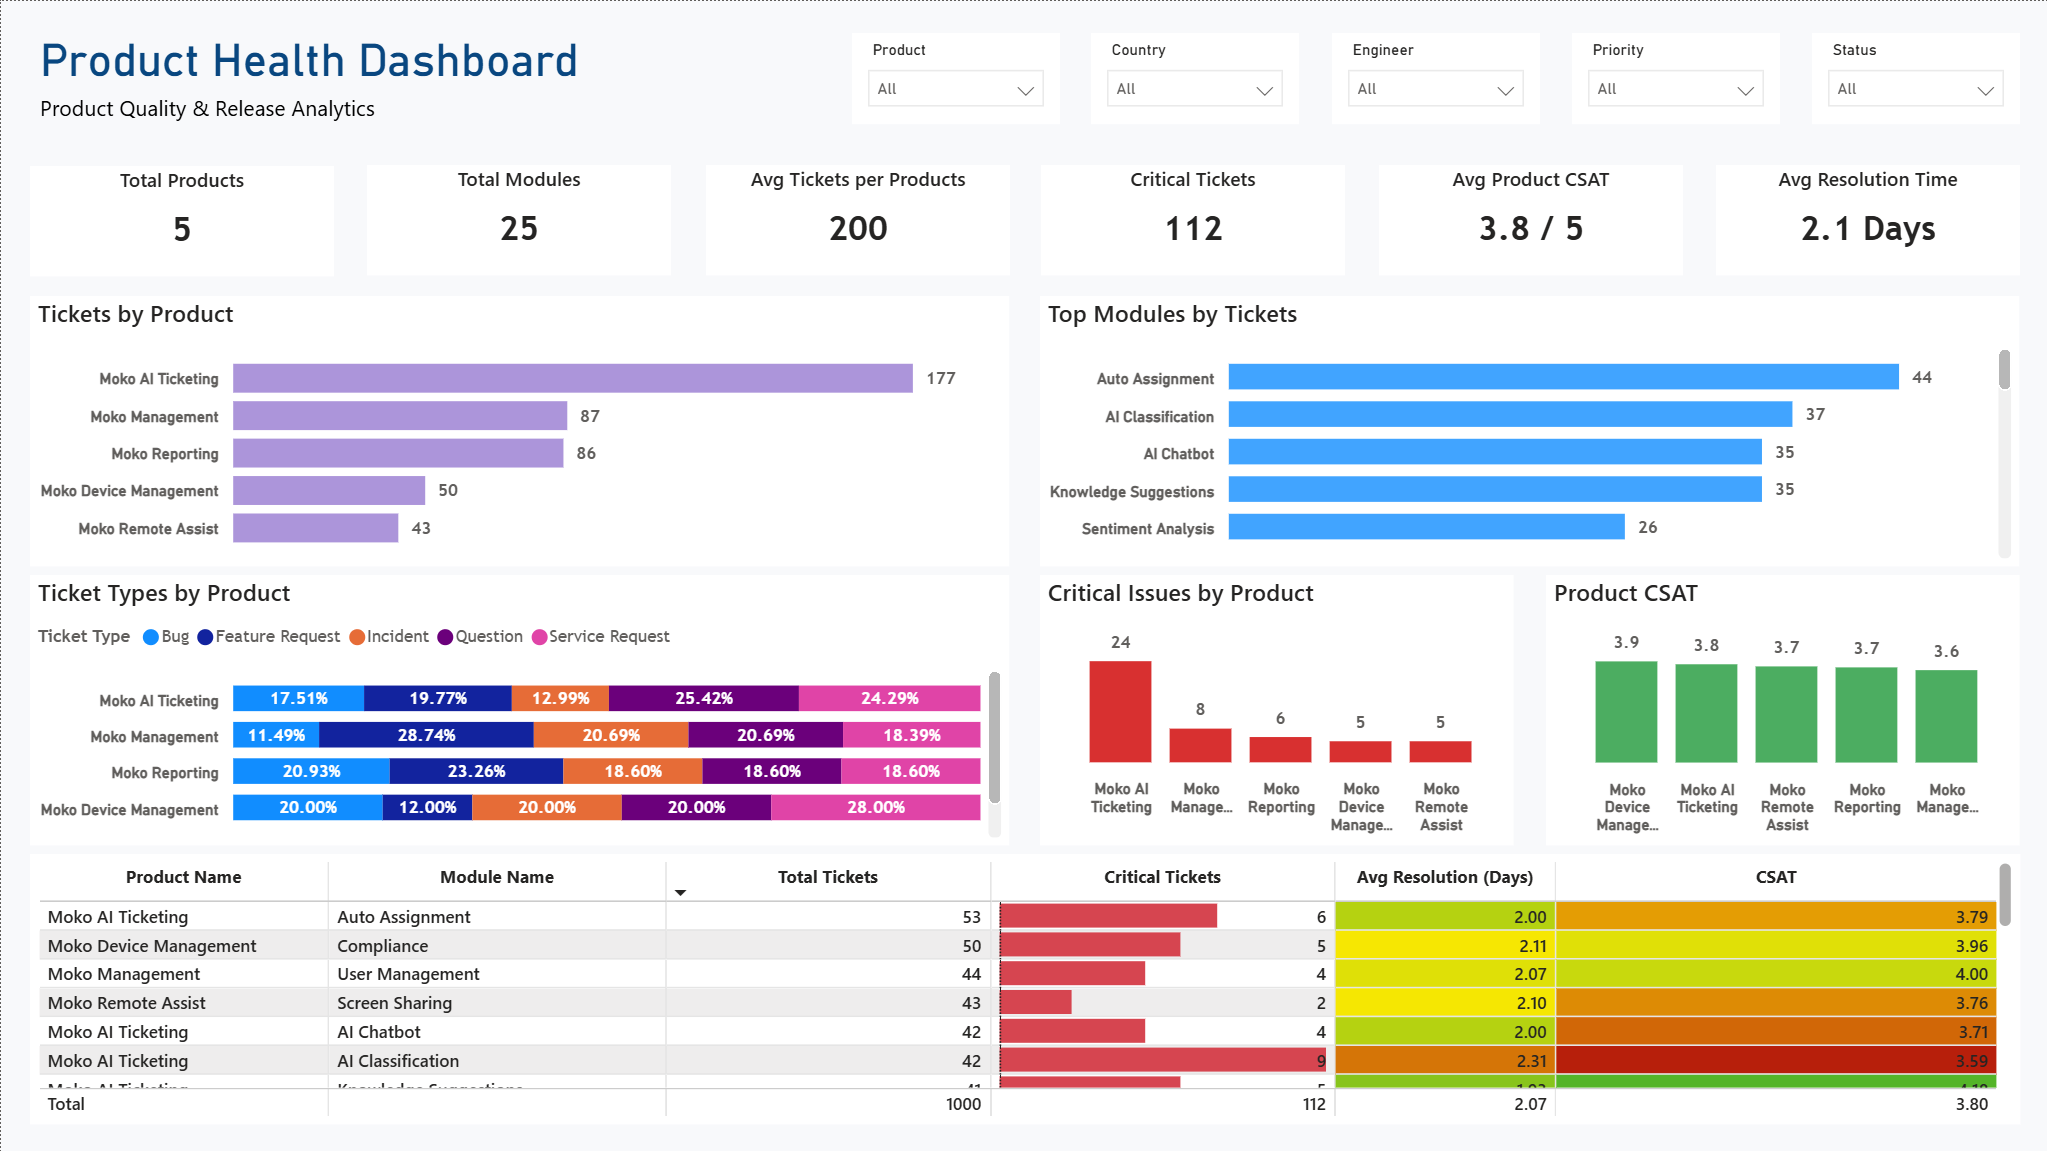

The page's visual inventory and layout, read from the dashboard file:
{"tool":"powerbi","page":{"name":"Product Health Dashboard","canvas":[1280,720],"ordinal":3},"visuals":[{"type":"textbox","title":"Product Health Dashboard","box":[19.3,20,452.7,61.3],"z":0},{"type":"cardVisual","title":"Total Products","fields":{"Data":["Measures (2).Products"]},"box":[18,102.8,190,69],"z":1000},{"type":"cardVisual","title":"Total Modules","fields":{"Data":["Measures (2).Modules"]},"box":[229,102.5,190.1,69.3],"z":2000},{"type":"cardVisual","title":"Avg Tickets per Products","fields":{"Data":["Measures (2).Avg Tickets per Product"]},"box":[440.7,102.5,190.1,69.3],"z":3000},{"type":"cardVisual","title":"Critical Tickets","fields":{"Data":["Measures (2).Critical Tickets"]},"box":[650,102.5,190,69.3],"z":4000},{"type":"cardVisual","title":"Avg Product CSAT","fields":{"Data":["Measures (2).Customer Rating Display"]},"box":[861,102.5,190.1,69.3],"z":5000},{"type":"cardVisual","title":"Avg Resolution Time","fields":{"Data":["Measures (2).Avg Resolution Time Display"]},"box":[1072,102.5,190.1,69.3],"z":6000},{"type":"slicer","fields":{"Values":["supportdesk_db tickets.status"]},"box":[1132,20,130,57.3],"z":7000},{"type":"slicer","fields":{"Values":["supportdesk_db tickets.priority"]},"box":[982,20,130,57.3],"z":8000},{"type":"slicer","fields":{"Values":["supportdesk_db engineers.engineer_name"]},"box":[832,20,130,57.3],"z":9000},{"type":"slicer","fields":{"Values":["supportdesk_db customers.country"]},"box":[681,20,130,57.3],"z":10000},{"type":"slicer","fields":{"Values":["supportdesk_db products.product_name"]},"box":[532,20,130,57.3],"z":11000},{"type":"clusteredBarChart","title":"Tickets by Product","fields":{"Y":["Measures (2).Total Tickets"],"Category":["supportdesk_db products.product_name"]},"box":[18,184.1,612,169],"z":12000},{"type":"tableEx","title":"Ticket Sources","fields":{"Values":["supportdesk_db products.product_name","supportdesk_db modules.module_name","Measures (2).Total Tickets","Measures (2).Critical Tickets","Measures (2).Avg Resolution (Days)","Measures (2).Average Rating"]},"box":[17.9,533,1244.2,169.2],"z":13000},{"type":"columnChart","title":"Critical Issues by Product","fields":{"Category":["supportdesk_db products.product_name"],"Y":["Measures (2).Critical Tickets"]},"box":[649.2,358.5,296.1,169.1],"z":14000},{"type":"hundredPercentStackedBarChart","title":"Ticket Types by Product","fields":{"Y":["Measures (2).Total Tickets"],"Category":["supportdesk_db products.product_name"],"Series":["supportdesk_db tickets.ticket_type"]},"box":[17.9,358.6,612,169.2],"z":15000},{"type":"clusteredBarChart","title":"Top Modules by Tickets","fields":{"Y":["Measures (2).Total Tickets"],"Category":["supportdesk_db modules.module_name"]},"box":[649.3,184.1,612,169.2],"z":17000},{"type":"columnChart","title":"Product CSAT","fields":{"Category":["supportdesk_db products.product_name"],"Y":["Measures (2).Average Rating"]},"box":[965.4,358.6,296,169.2],"z":17001}]}

Visuals, with their boxes in screenshot pixels (x1, y1, x2, y2), scaled from the page's 1280x720 canvas onto the 2047x1151 screenshot:
"Product Health Dashboard" textbox: select_region(31, 32, 755, 130)
"Total Products" cardVisual: select_region(29, 164, 333, 275)
"Total Modules" cardVisual: select_region(366, 164, 670, 275)
"Avg Tickets per Products" cardVisual: select_region(705, 164, 1009, 275)
"Critical Tickets" cardVisual: select_region(1039, 164, 1343, 275)
"Avg Product CSAT" cardVisual: select_region(1377, 164, 1681, 275)
"Avg Resolution Time" cardVisual: select_region(1714, 164, 2018, 275)
slicer - supportdesk_db tickets.status: select_region(1810, 32, 2018, 124)
slicer - supportdesk_db tickets.priority: select_region(1570, 32, 1778, 124)
slicer - supportdesk_db engineers.engineer_name: select_region(1331, 32, 1538, 124)
slicer - supportdesk_db customers.country: select_region(1089, 32, 1297, 124)
slicer - supportdesk_db products.product_name: select_region(851, 32, 1059, 124)
"Tickets by Product" clusteredBarChart: select_region(29, 294, 1008, 564)
"Ticket Sources" tableEx: select_region(29, 852, 2018, 1123)
"Critical Issues by Product" columnChart: select_region(1038, 573, 1512, 843)
"Ticket Types by Product" hundredPercentStackedBarChart: select_region(29, 573, 1007, 844)
"Top Modules by Tickets" clusteredBarChart: select_region(1038, 294, 2017, 565)
"Product CSAT" columnChart: select_region(1544, 573, 2017, 844)
